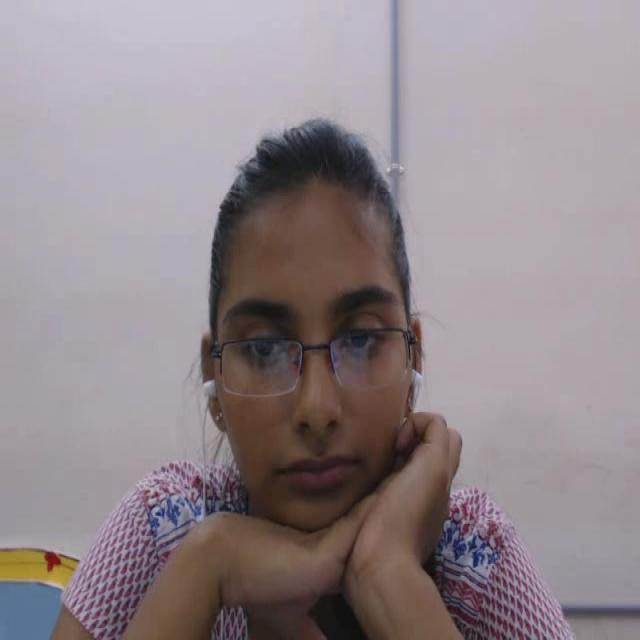Bored: (162, 97, 451, 566)
